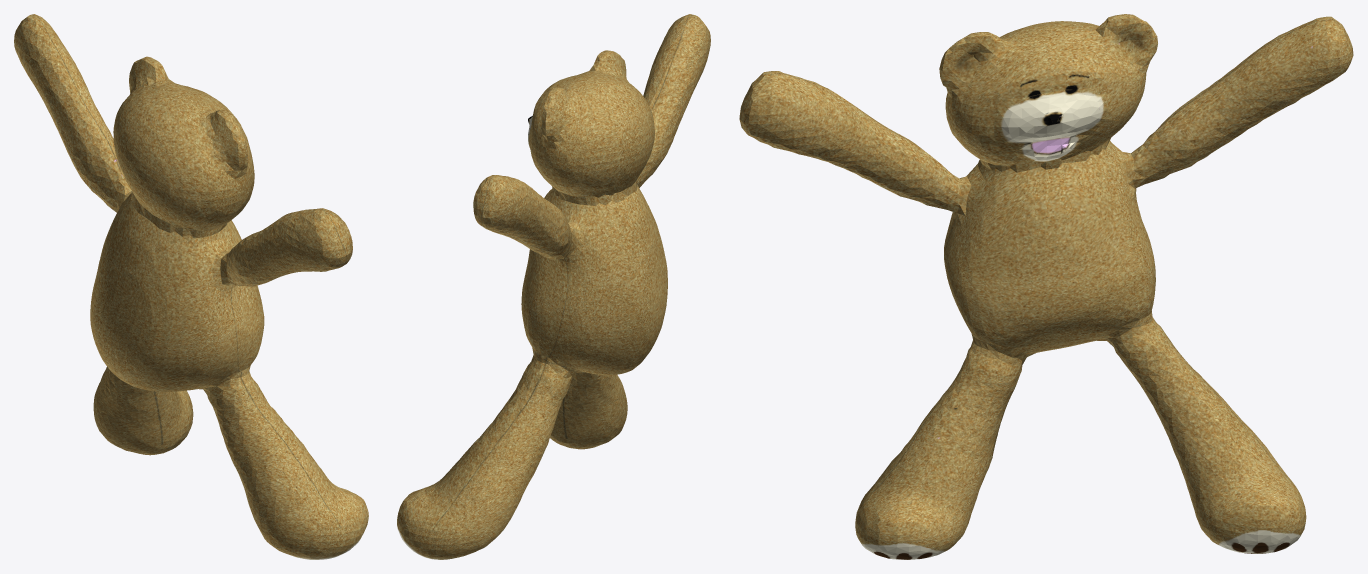
The model's file is teddy_aug_3.obj.
3 renders of one model, left to right at view 1: azimuth 30°, elevation 25°; view 2: azimuth 150°, elevation 25°; view 3: azimuth 270°, elevation 25°, orthographic. The views are drawn at different scales.
Size of the model in its own units: 42.51 by 95.31 by 106.
1 material, 1 textured.
